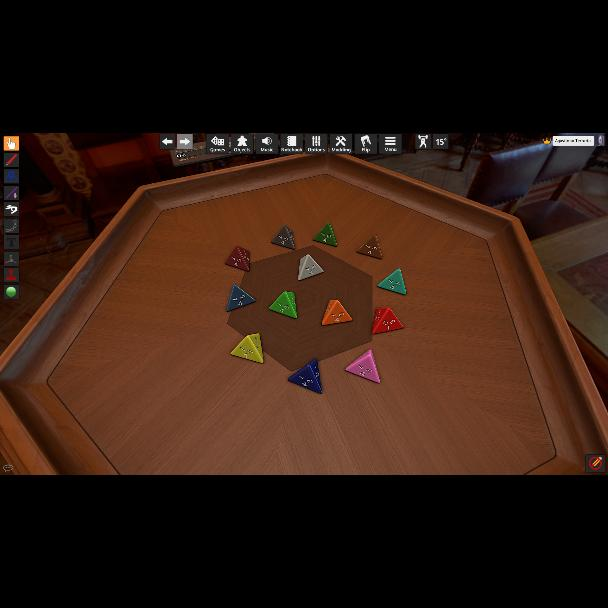d4: (288, 359, 320, 393), (346, 350, 378, 382), (231, 334, 265, 364), (372, 306, 402, 333), (268, 292, 298, 318), (226, 286, 256, 312), (320, 300, 350, 326), (377, 270, 405, 294), (298, 254, 322, 282), (357, 234, 382, 260), (226, 246, 251, 272), (272, 224, 296, 250), (313, 222, 337, 246)
